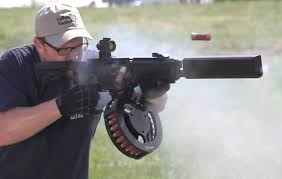Gun: (29, 46, 265, 88)
